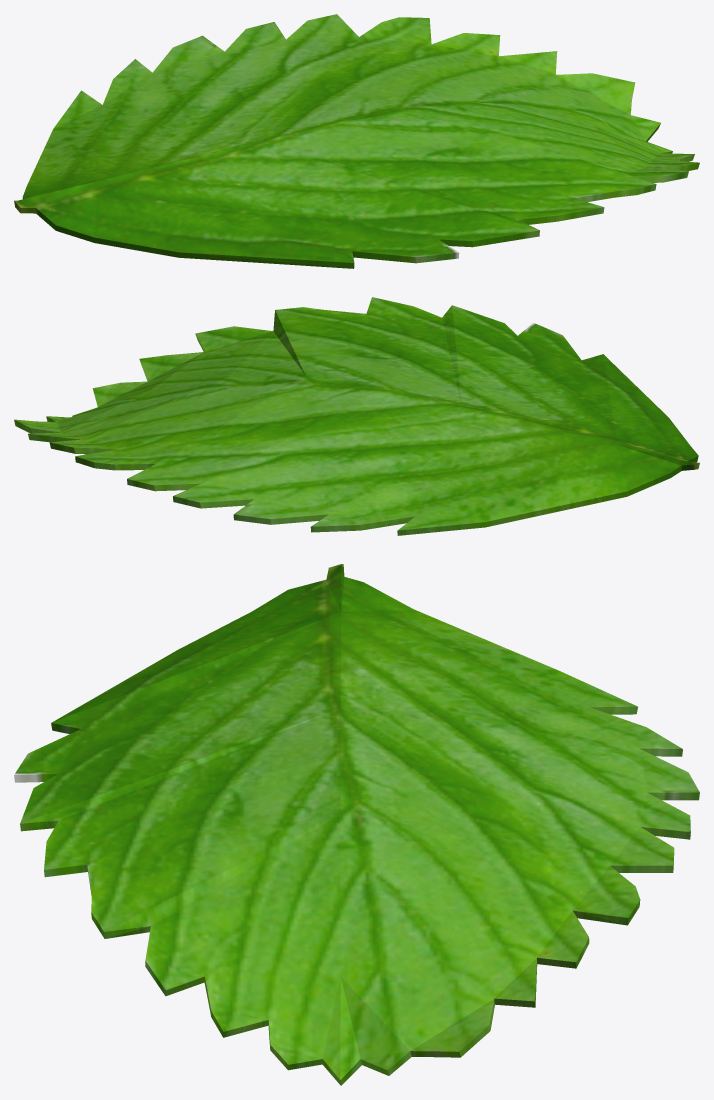
Rendered from leaf4.dae.
The picture shows the model from 3 angles, top to bottom: view 1: azimuth 30°, elevation 25°; view 2: azimuth 150°, elevation 25°; view 3: azimuth 270°, elevation 25°; orthographic projection. The views are drawn at different scales.
Parts seen in each view (by area): view 1: Plane; view 2: Plane; view 3: Plane.
Part boxes in pixels (left/top/right/bottom): Plane: left=14, top=14, right=699, bottom=268; Plane: left=14, top=297, right=699, bottom=535; Plane: left=14, top=564, right=699, bottom=1085.
Bounding box in the file's own units: 0.1374 × 0.1018 × 0.0227.
Materials: 1 (1 with a texture image).
